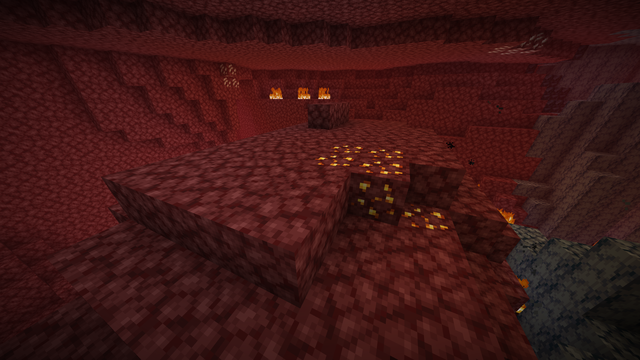nethergold: (313, 142, 454, 232)
quartz: (488, 30, 548, 55), (220, 61, 242, 89)
